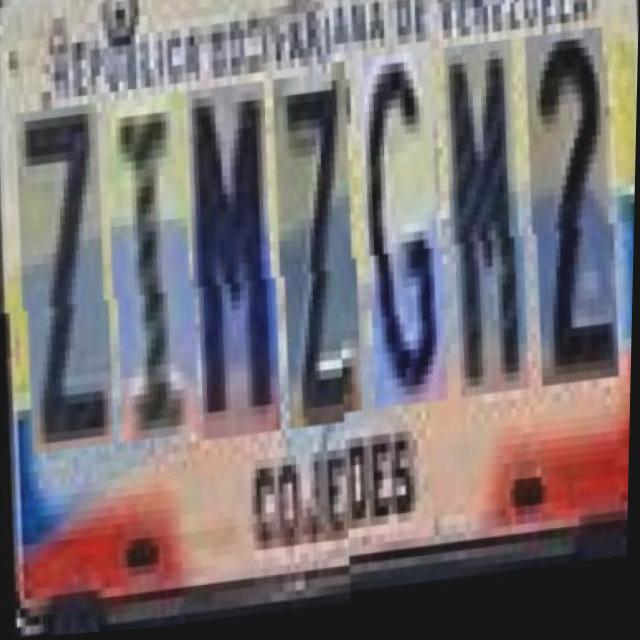2: (522, 52, 621, 412)
g: (354, 69, 450, 430)
i: (103, 95, 201, 447)
m: (184, 87, 282, 447), (440, 61, 531, 421)
z: (12, 105, 116, 456), (269, 79, 365, 440)
